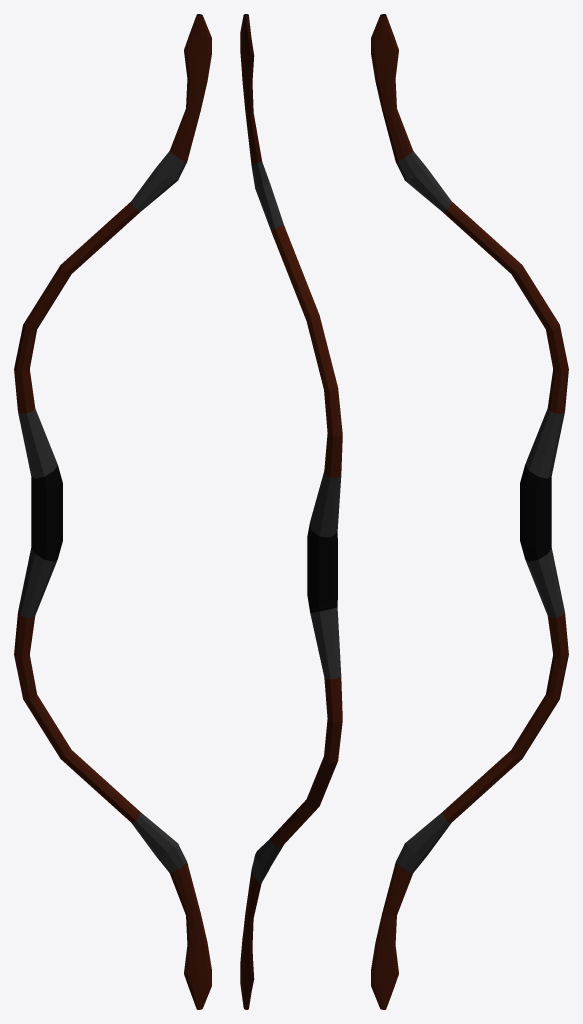
File: Bow.fbx
3 views of the same model, side by side, from view 1: azimuth 90°, elevation 25°; view 2: azimuth 210°, elevation 25°; view 3: azimuth 270°, elevation 25° (orthographic).
Visible parts, largest first — view 1: Bow; view 2: Bow; view 3: Bow.
Boxes of the visible parts, x1,y1,x2,y2 form: Bow: (14,14,211,1009); Bow: (240,14,342,1009); Bow: (371,14,568,1009).
Size of the model in its own units: 0.0422 by 1.46 by 0.2628.
